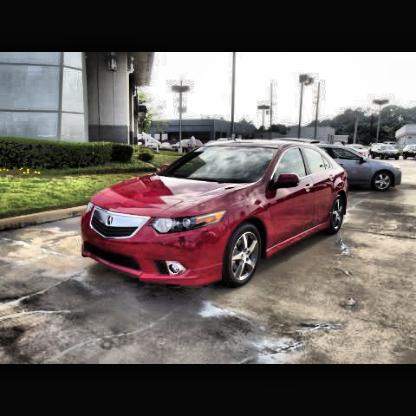Acura TSX Sedan 2012: (82, 141, 351, 290)
